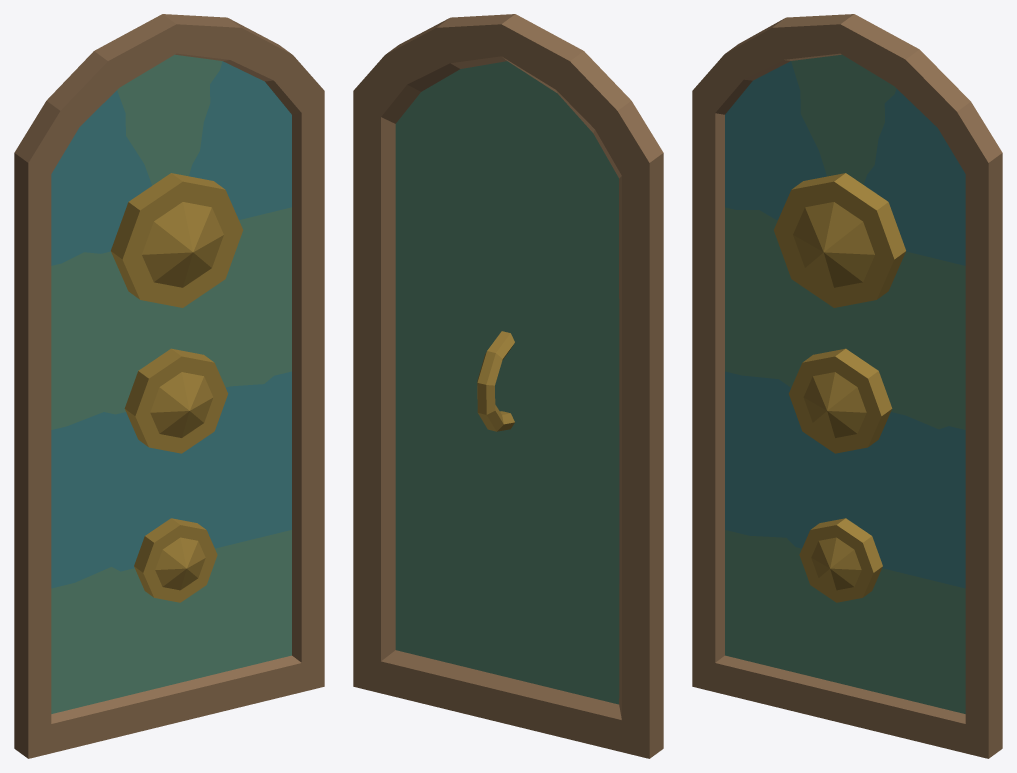
The model's file is SM_pwe_egypt_shield_01a.fbx.
3 views of the same model, side by side, from view 1: azimuth 30°, elevation 25°; view 2: azimuth 150°, elevation 25°; view 3: azimuth 330°, elevation 25° (orthographic).
Visible parts, largest first — view 1: SM_pwe_egypt_shield_01a; view 2: SM_pwe_egypt_shield_01a; view 3: SM_pwe_egypt_shield_01a.
Boxes of the visible parts, x1,y1,x2,y2 form: SM_pwe_egypt_shield_01a: (14,14,324,758); SM_pwe_egypt_shield_01a: (353,14,663,758); SM_pwe_egypt_shield_01a: (692,14,1002,758).
Size of the model in its own units: 54.09 by 122 by 15.59.
